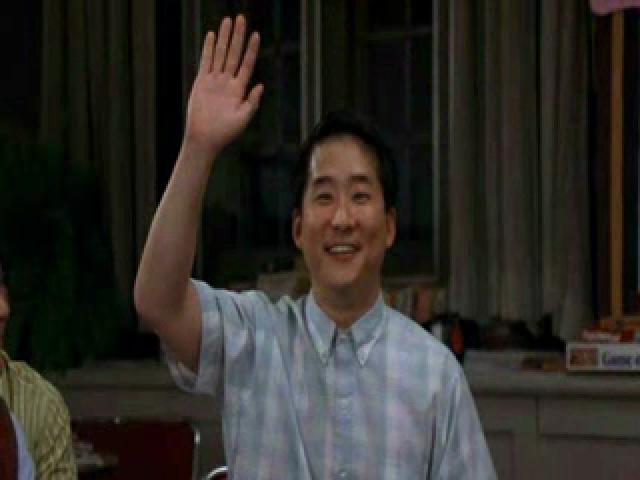T: (133, 11, 488, 480)
